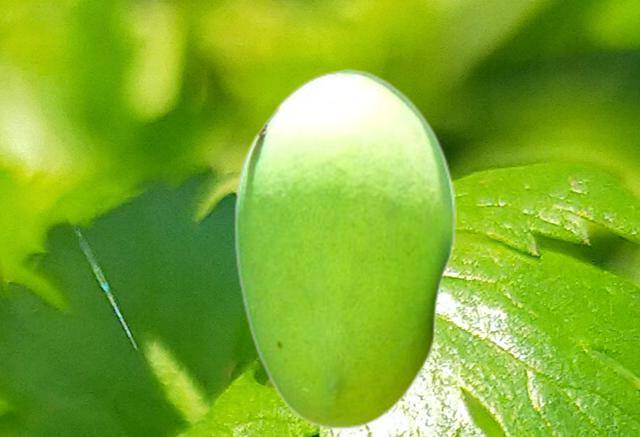green_mango: (233, 68, 455, 428)
